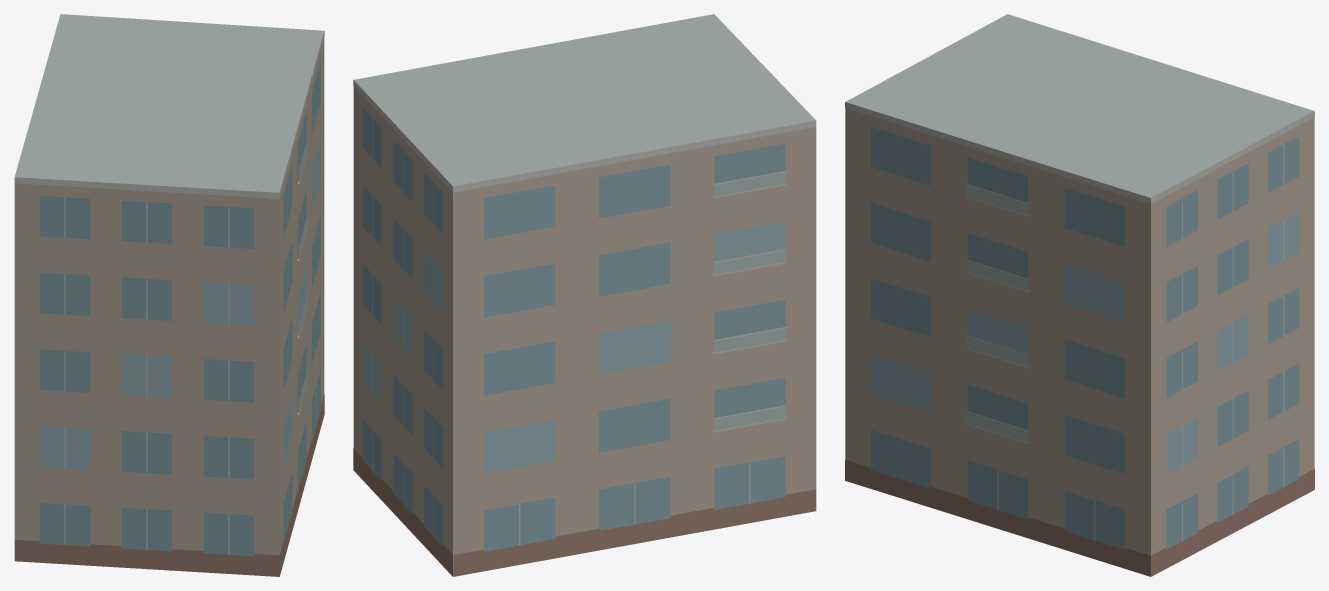
The model's file is survey-upis-33003770.glb.
3 views of the same model, side by side, from view 1: azimuth 30°, elevation 25°; view 2: azimuth 150°, elevation 25°; view 3: azimuth 270°, elevation 25° (orthographic). The views are drawn at different scales.
Parts seen in each view (by area): view 1: survey-upis-33003770.tmp; view 2: survey-upis-33003770.tmp; view 3: survey-upis-33003770.tmp.
Part boxes in pixels (x1,y1,x2,y2): survey-upis-33003770.tmp: [14, 14, 324, 576]; survey-upis-33003770.tmp: [353, 14, 816, 576]; survey-upis-33003770.tmp: [845, 14, 1314, 576].
Size of the model in its own units: 16.17 by 15.5 by 17.42.
